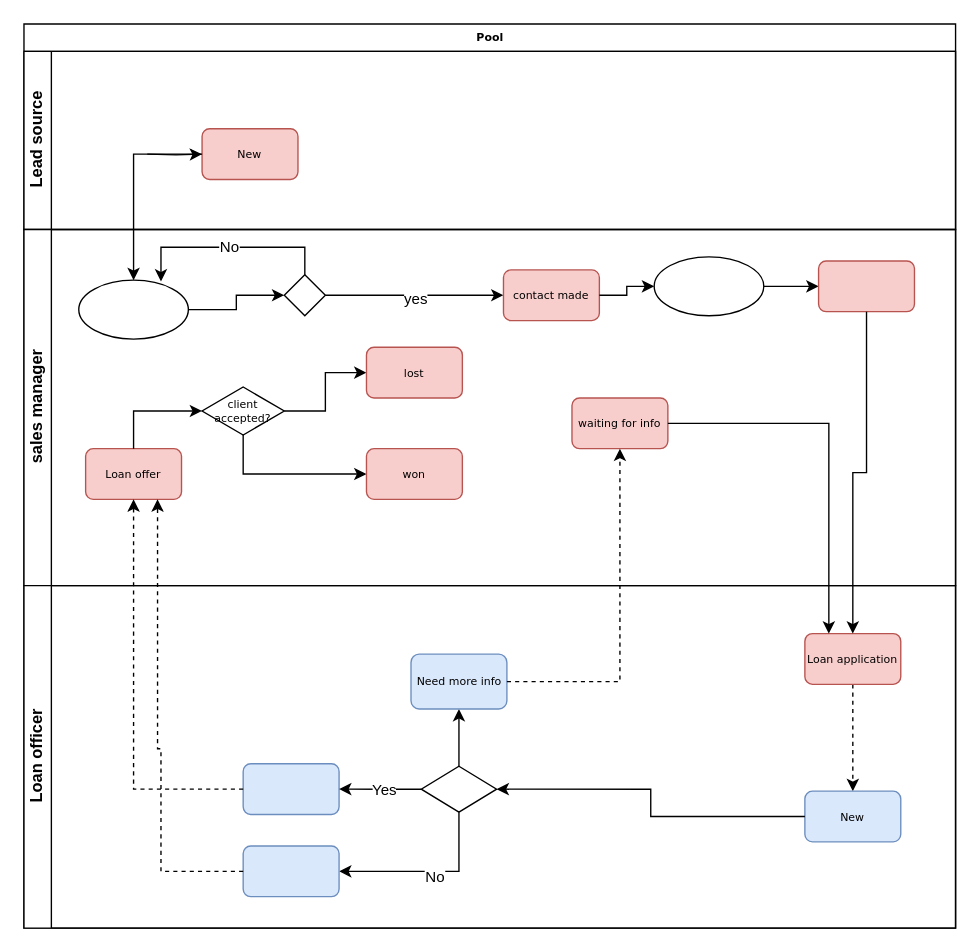
The diagram is 980 pixels wide and 952 high, and some of its shapes have lost their labels. The centre of each missing label's shape, as x and y in pixels:
approve: (458,788)
approved: (290,788)
make call: (132,309)
pick-up: (304,294)
rejected: (290,871)
send PSD2 link: (708,286)
waiting for psd2: (865,286)
